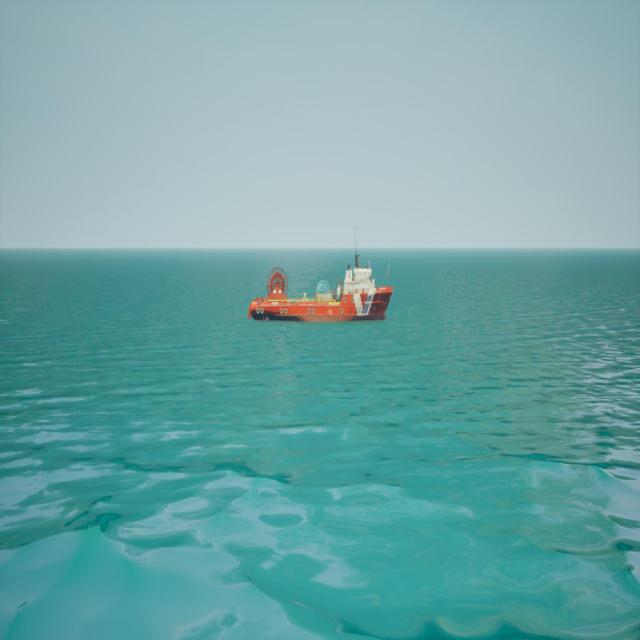tug boat: (249, 249, 394, 325)
